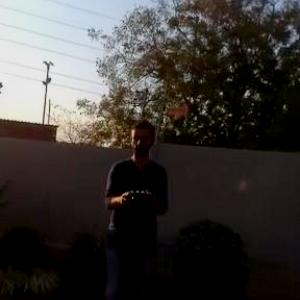follow: (96, 109, 174, 299)
